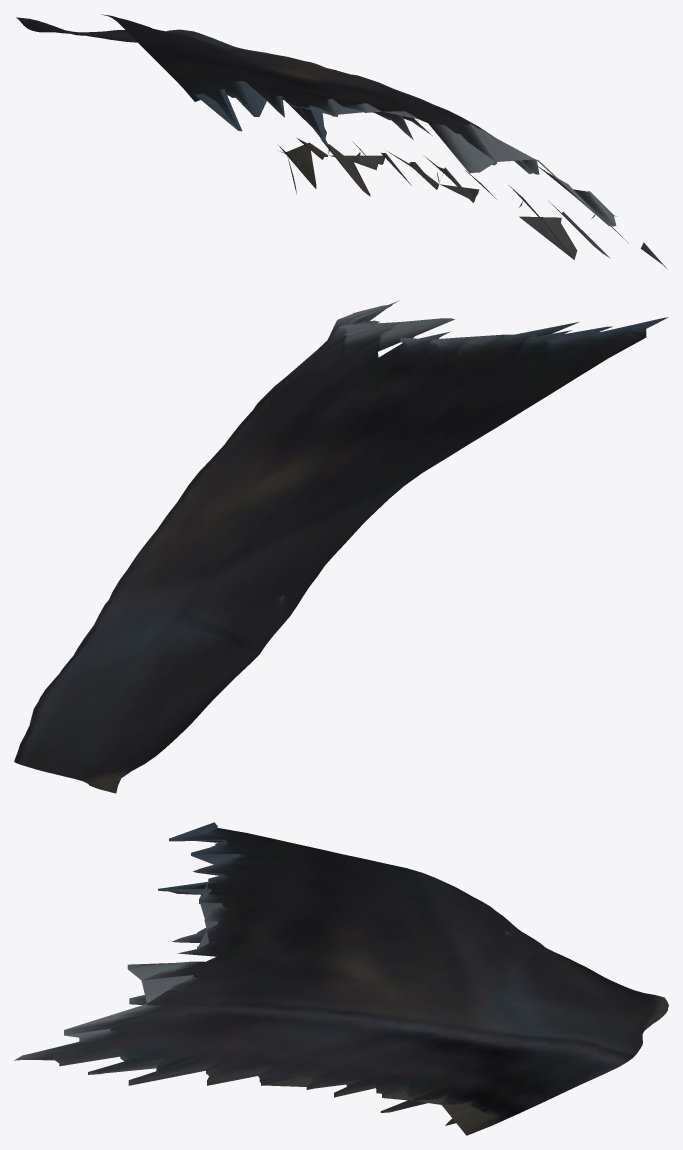
Rendered from observed-surface.glb.
3 views of the same model, one above another, from view 1: azimuth 30°, elevation 25°; view 2: azimuth 150°, elevation 25°; view 3: azimuth 270°, elevation 25° (orthographic). The views are drawn at different scales.
Visible parts, largest first — view 1: geometry_0; view 2: geometry_0; view 3: geometry_0.
Boxes of the visible parts, x1,y1,x2,y2 form: geometry_0: (16,14,667,269); geometry_0: (14,300,668,793); geometry_0: (14,822,668,1135).
Size of the model in its own units: 0.5823 by 0.4782 by 1.32.
1 material, 1 textured.
